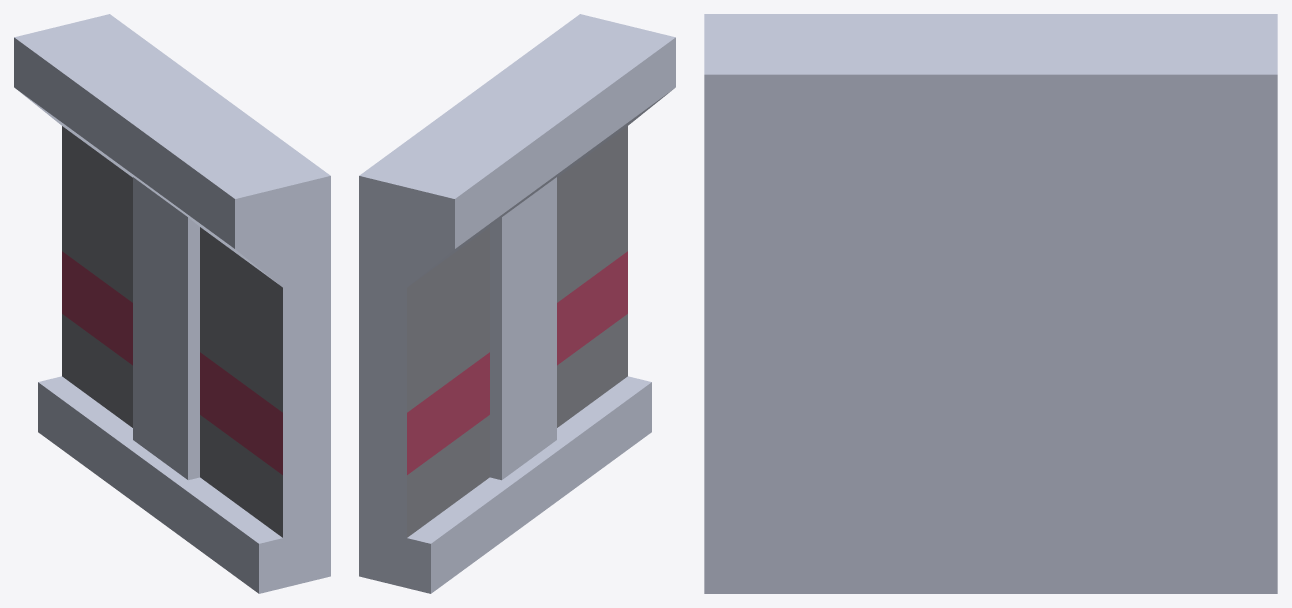
3 renders of one model, left to right at view 1: azimuth 30°, elevation 25°; view 2: azimuth 150°, elevation 25°; view 3: azimuth 270°, elevation 25°, orthographic. The views are drawn at different scales.
Parts seen in each view (by area): view 1: object_007; view 2: object_007; view 3: object_007.
Boxes of the visible parts, x1,y1,x2,y2 form: object_007: [14, 14, 330, 593]; object_007: [359, 14, 675, 593]; object_007: [704, 14, 1277, 593].
Size of the model in its own units: 2.5 by 10 by 10.
